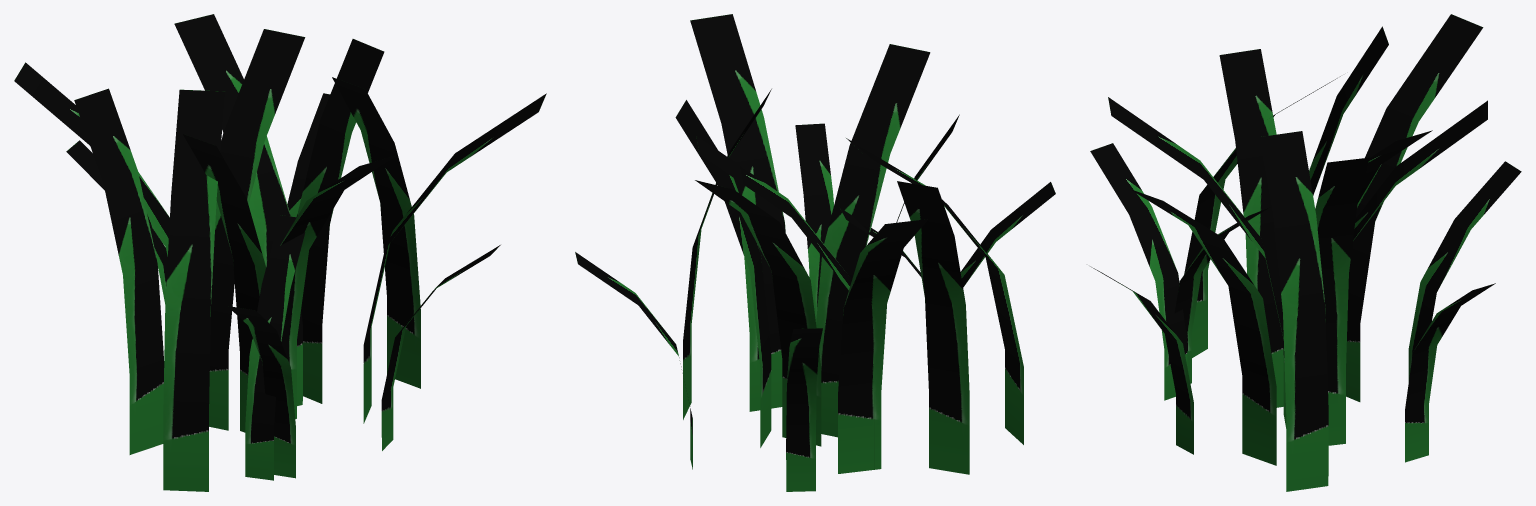
Rendered from FoliageGrassMesh 1.fbx.
The picture shows the model from 3 angles, left to right: view 1: azimuth 30°, elevation 25°; view 2: azimuth 150°, elevation 25°; view 3: azimuth 270°, elevation 25°; orthographic projection.
Visible parts, largest first — view 1: Plane.014; view 2: Plane.014; view 3: Plane.014.
Part boxes in pixels (x1,y1,x2,y2): Plane.014: (14, 14, 546, 491); Plane.014: (575, 14, 1055, 491); Plane.014: (1090, 14, 1521, 491).
Size of the model in its own units: 0.8512 by 0.6841 by 0.8425.
